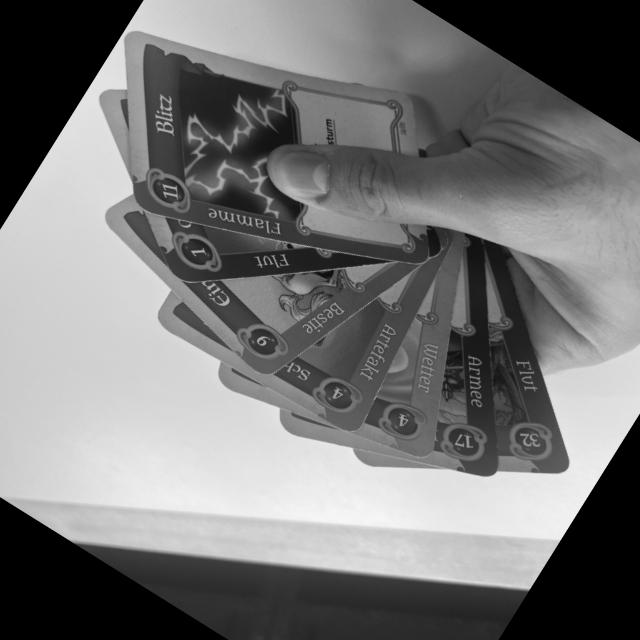Air Elemental: (359, 233, 463, 465)
Fountain Of Life: (140, 210, 395, 282)
Great Flood: (482, 240, 572, 474)
Light Cavalry: (430, 233, 498, 480)
Lightning: (126, 27, 433, 268)
Shield Of Keth: (265, 251, 449, 440)
Unicorn: (167, 264, 424, 382)
